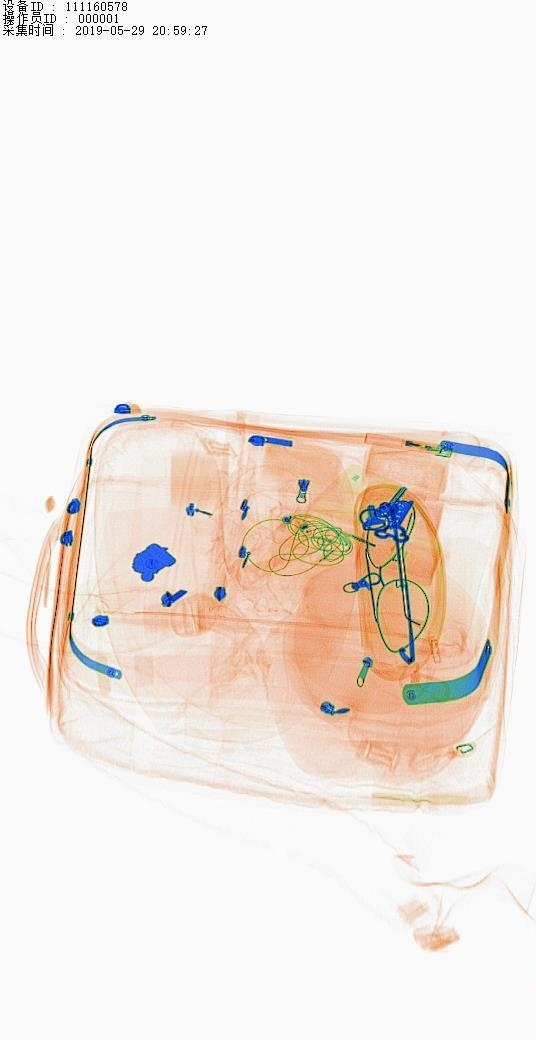NonmetallicFire: (343, 417, 468, 468)
